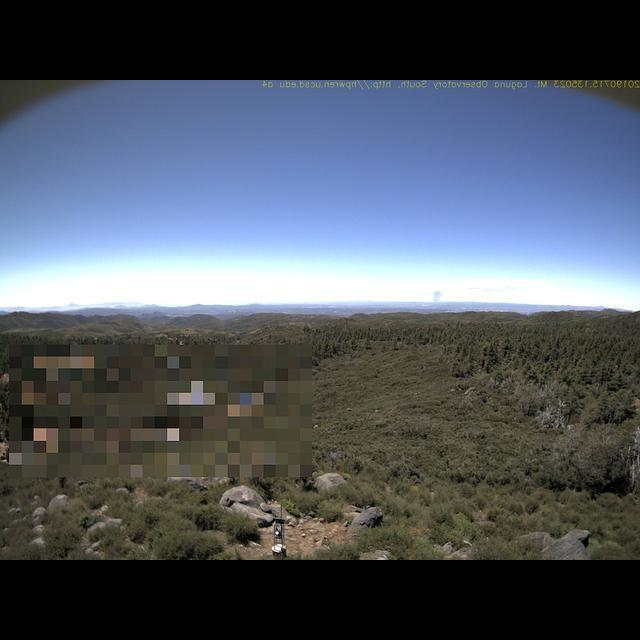Smoke: (427, 288, 446, 310)
